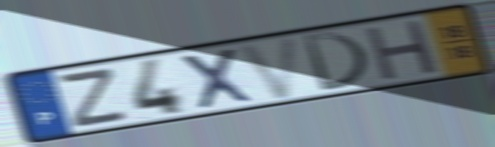4: (131, 55, 189, 117)
D: (299, 30, 372, 93)
H: (362, 17, 441, 84)
V: (235, 33, 303, 102)
X: (176, 45, 259, 112)
Z: (58, 65, 131, 130)
